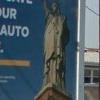Statue: (36, 0, 75, 90)
